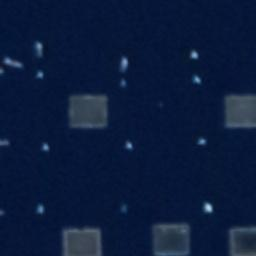square_cover: (66, 89, 114, 132), (145, 220, 198, 256), (59, 218, 107, 256), (219, 89, 256, 133), (222, 226, 256, 256)
